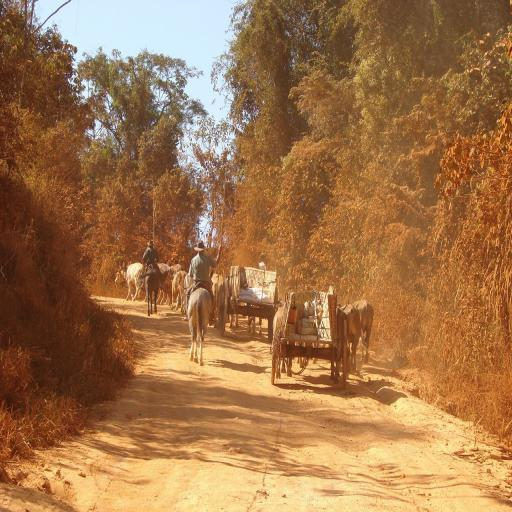horse: (186, 283, 214, 367), (136, 268, 163, 318)
